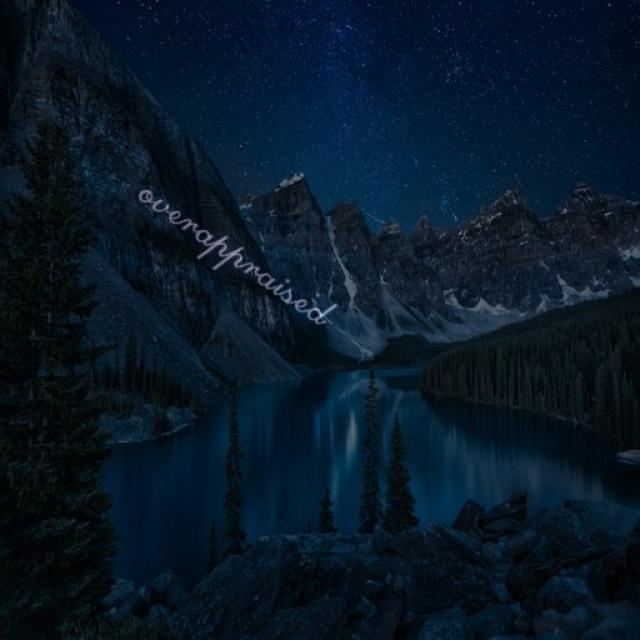watermark: (127, 168, 349, 334)
